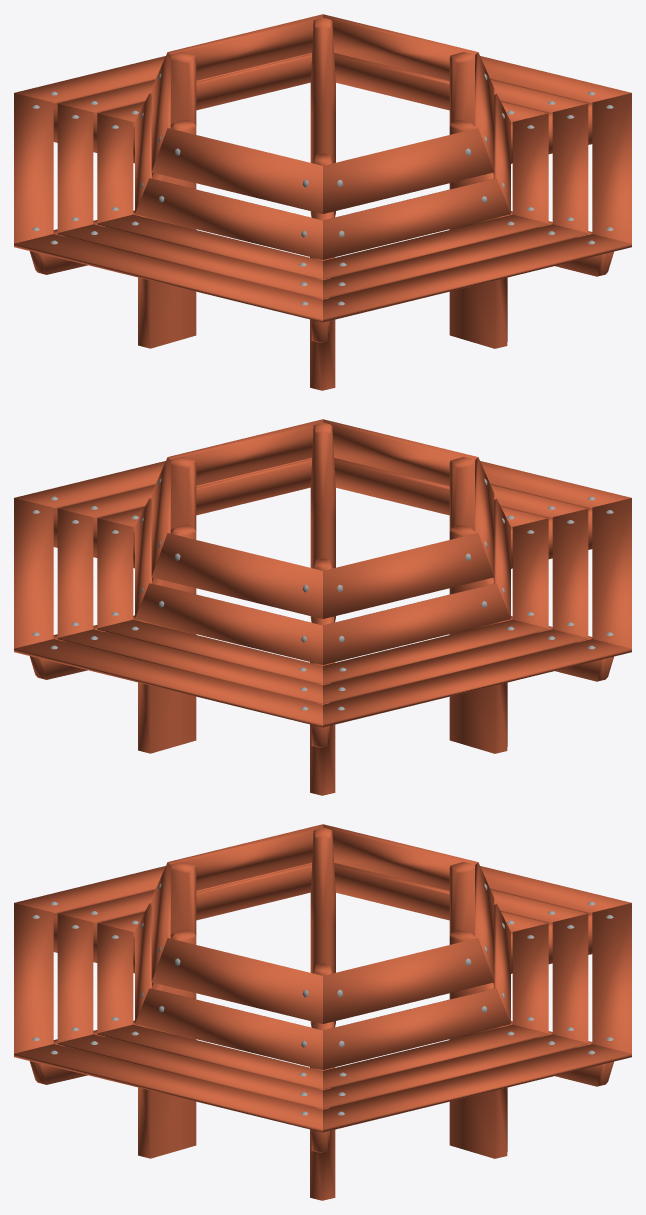
The model's file is Bench.fbx.
3 renders of one model, top to bottom at view 1: azimuth 30°, elevation 25°; view 2: azimuth 150°, elevation 25°; view 3: azimuth 270°, elevation 25°, orthographic.
Visible parts, largest first — view 1: Cube.002; view 2: Cube.002; view 3: Cube.002.
Boxes of the visible parts, box(x1,y1,x2,y2) form: Cube.002: box(14, 14, 631, 390); Cube.002: box(14, 419, 631, 795); Cube.002: box(14, 824, 631, 1200).
Bounding box in the file's own units: 12.71 × 4.15 × 11.01.
